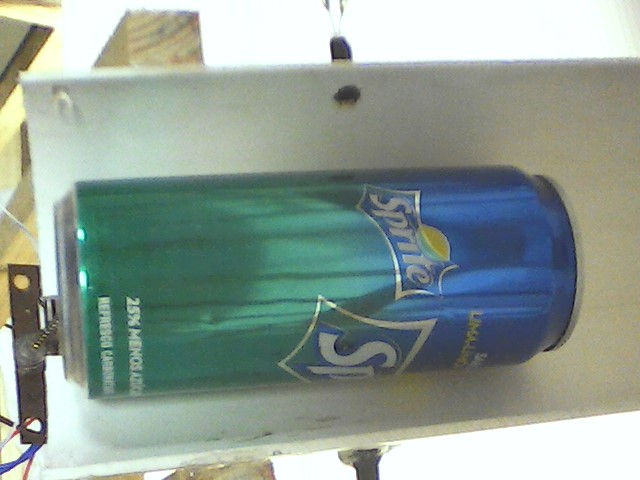lata: (47, 158, 588, 402)
